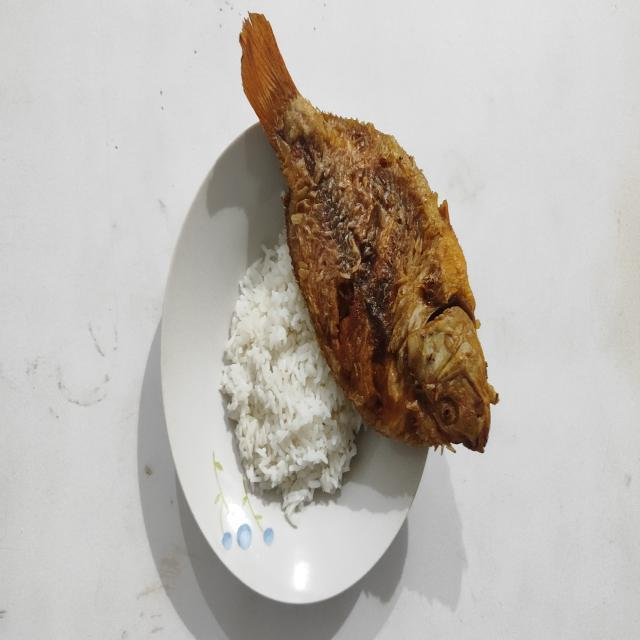ikan_mujair: (239, 14, 499, 452)
nasi_putih: (220, 244, 362, 518)
